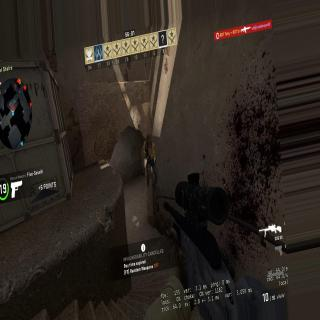T-Body: (143, 132, 156, 197)
T-Head: (147, 134, 151, 146)
